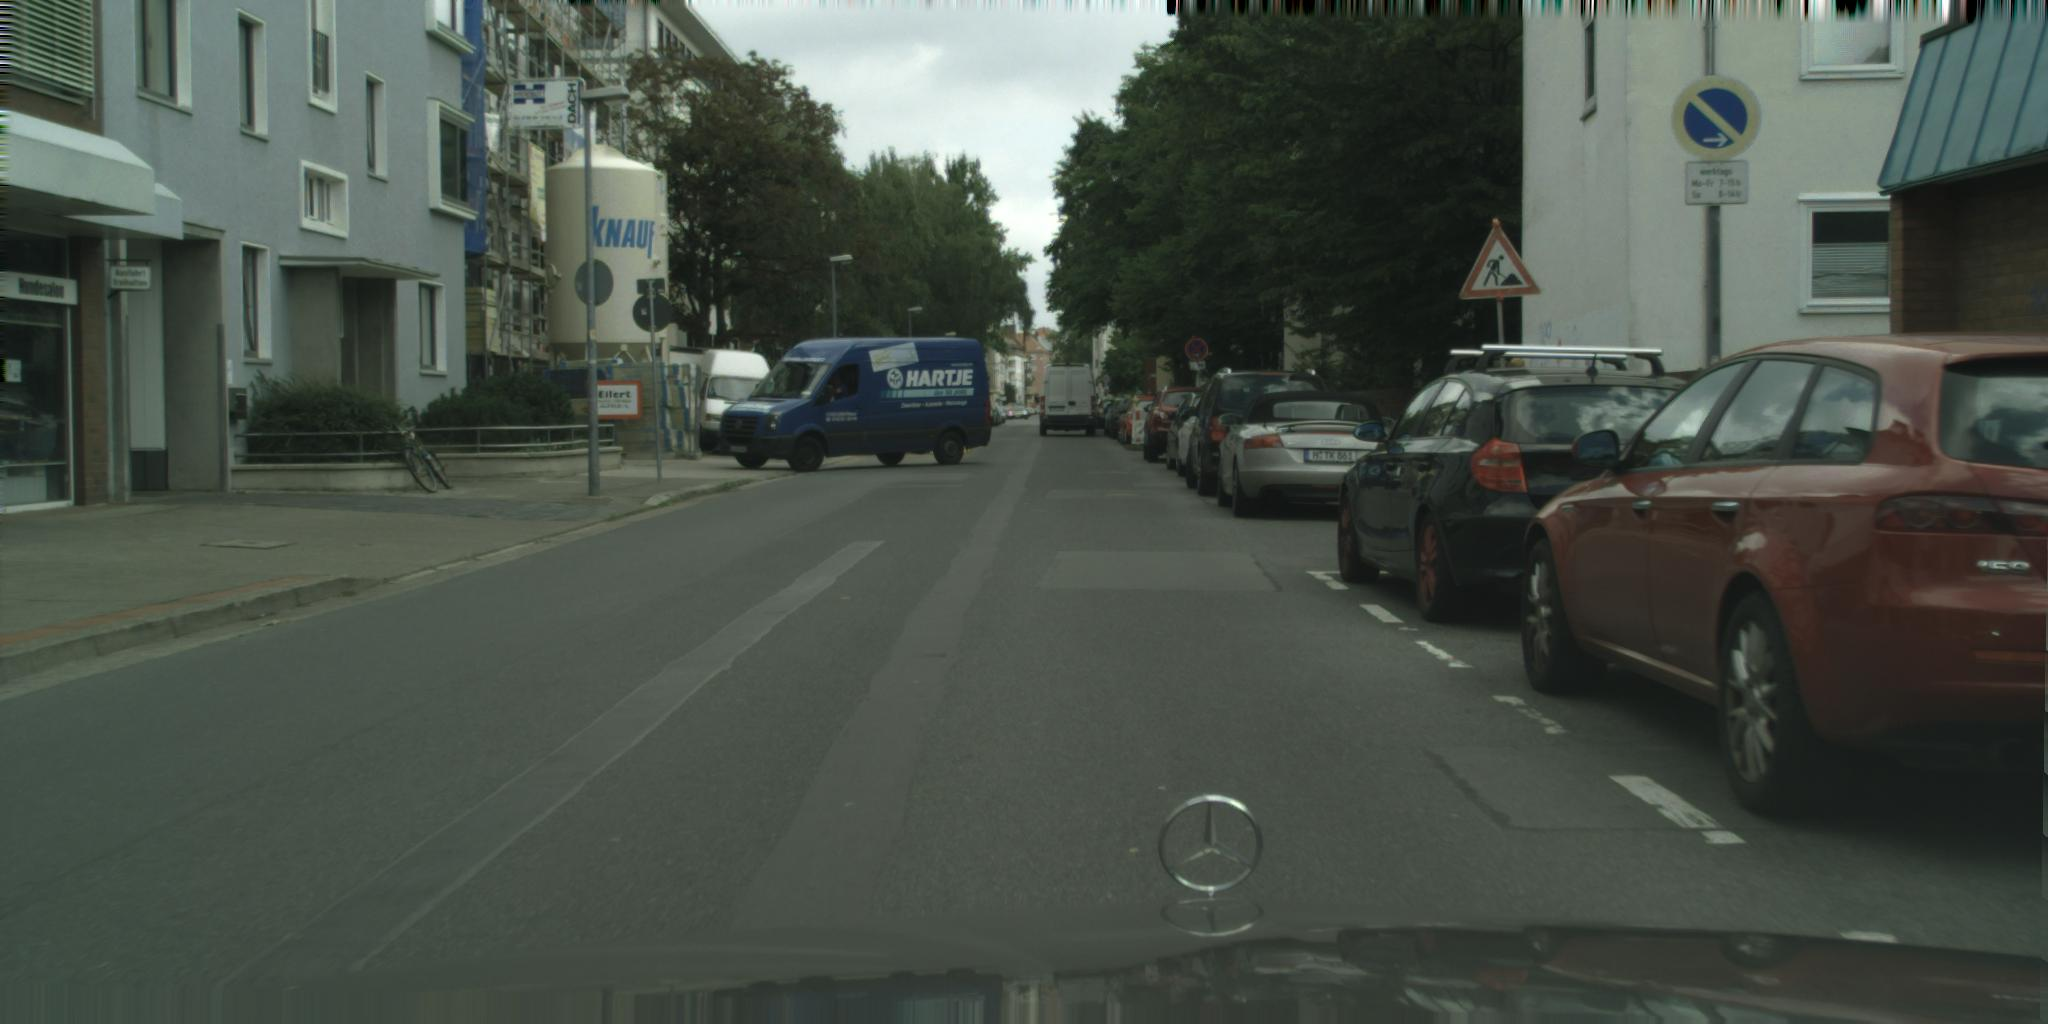bicycle: (394, 406, 455, 492)
car: (1522, 333, 2048, 818), (1339, 344, 1744, 626), (720, 340, 993, 473), (1219, 392, 1400, 519), (1183, 368, 1330, 498), (666, 346, 777, 455), (1144, 387, 1219, 462), (1034, 364, 1097, 438), (1168, 391, 1209, 472)
